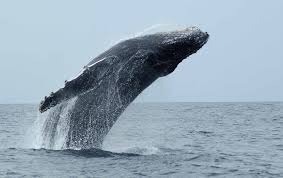humpback: (39, 24, 209, 147)
